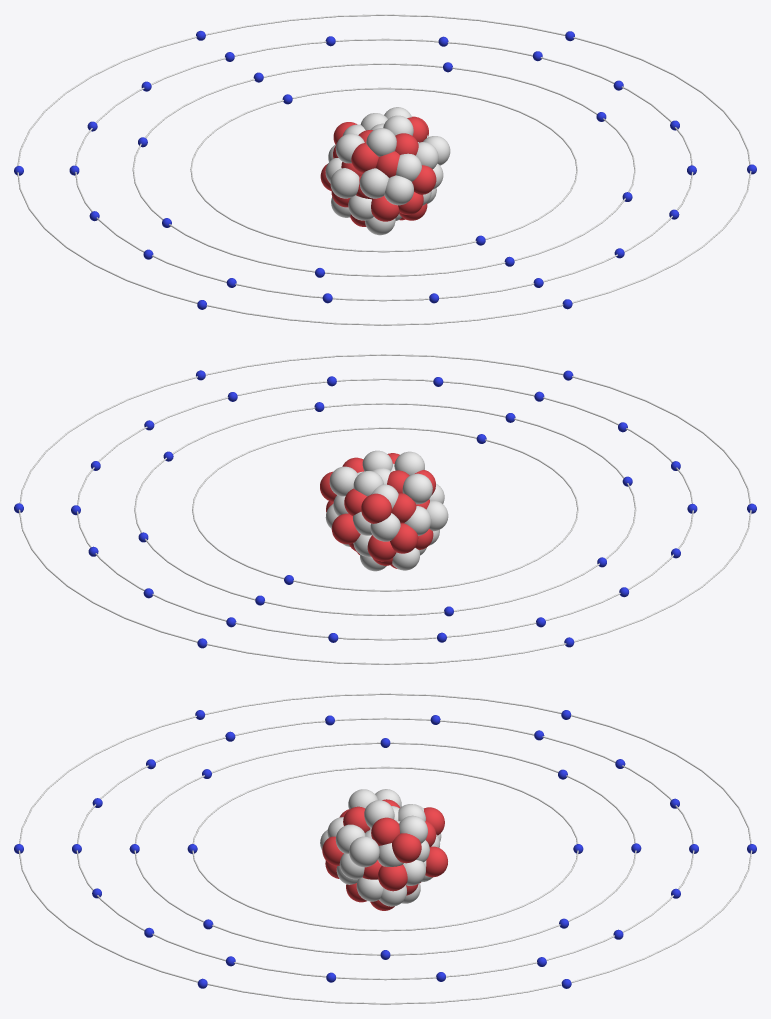
Rendered from Selen.glb.
The picture shows the model from 3 angles, top to bottom: view 1: azimuth 30°, elevation 25°; view 2: azimuth 150°, elevation 25°; view 3: azimuth 270°, elevation 25°; orthographic projection.
Parts seen in each view (by area): view 1: N-Schale, M-Schale, L-Schale, K-Schale, Neutron 44, Neutron 42, Neutron 40, Neutron 37, Proton 28, Neutron 35, Neutron 38, Proton 24; view 2: N-Schale, M-Schale, L-Schale, K-Schale, Proton 34, Neutron 35, Proton 18, Neutron 36, Proton 4, Neutron 8, Neutron 37, Neutron 30; view 3: N-Schale, M-Schale, L-Schale, K-Schale, Neutron 43, Proton 29, Proton 31, Proton 26, Neutron 31, Proton 18, Neutron 36, Neutron 41.
Part boxes in pixels (<box>): N-Schale: <box>17,14,751,325</box>; M-Schale: <box>75,38,693,301</box>; L-Schale: <box>132,63,635,276</box>; K-Schale: <box>190,87,577,252</box>; Neutron 44: <box>330,168,359,198</box>; Neutron 42: <box>384,175,413,205</box>; Neutron 40: <box>359,168,388,198</box>; Neutron 37: <box>366,128,396,156</box>; Proton 28: <box>351,143,378,172</box>; Neutron 35: <box>335,133,364,163</box>; Neutron 38: <box>396,153,421,181</box>; Proton 24: <box>371,196,399,221</box>; N-Schale: <box>18,354,751,664</box>; M-Schale: <box>77,378,693,640</box>; L-Schale: <box>134,403,636,615</box>; K-Schale: <box>192,427,578,591</box>; Proton 34: <box>361,493,391,523</box>; Neutron 35: <box>402,473,432,504</box>; Proton 18: <box>331,513,360,544</box>; Neutron 36: <box>329,466,358,496</box>; Proton 4: <box>390,523,418,553</box>; Neutron 8: <box>370,513,400,541</box>; Neutron 37: <box>394,451,424,475</box>; Neutron 30: <box>353,471,383,496</box>; N-Schale: <box>18,693,752,1004</box>; M-Schale: <box>76,717,694,980</box>; L-Schale: <box>134,742,636,955</box>; K-Schale: <box>192,766,578,931</box>; Neutron 43: <box>349,836,379,867</box>; Proton 29: <box>392,833,421,863</box>; Proton 31: <box>378,864,407,891</box>; Proton 26: <box>371,817,399,845</box>; Neutron 31: <box>364,800,394,828</box>; Proton 18: <box>425,846,447,877</box>; Neutron 36: <box>399,815,427,843</box>; Neutron 41: <box>335,824,365,853</box>.
Size of the model in its own units: 19.04 by 3.03 by 19.26.
